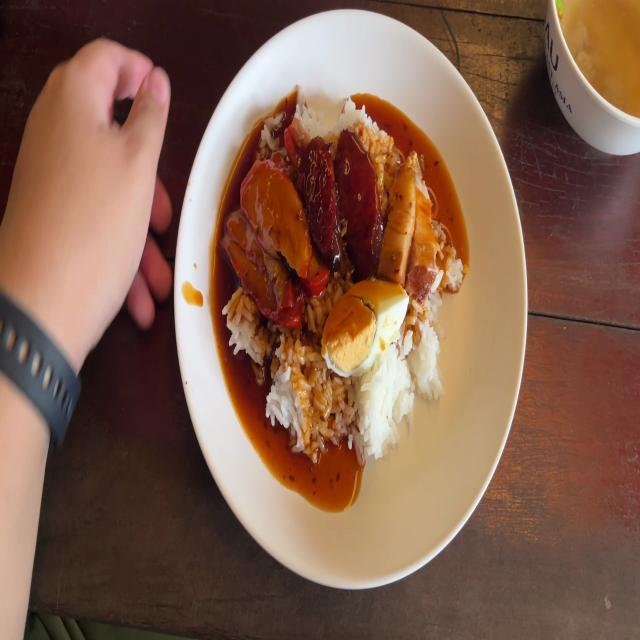red_pork_and_crispy_pork: (327, 284, 404, 367)
stir_fried_basil: (310, 141, 374, 268), (336, 128, 374, 253), (304, 140, 332, 260)
